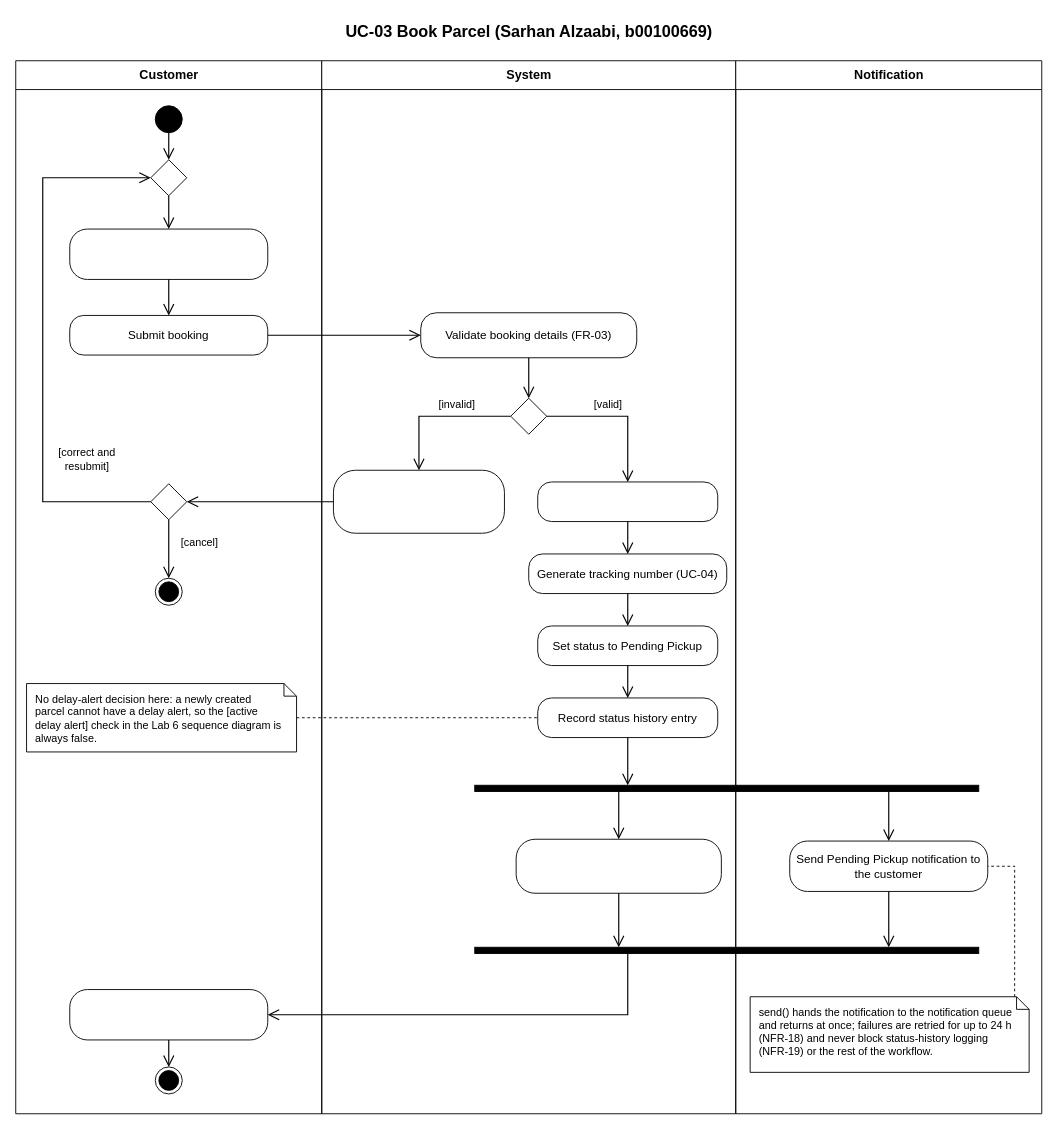
The diagram is 1058 pixels wide and 1130 high, and some of its shapes have lost their labels. Each missing label, with the centre of its shape:
Calculate expected delivery window (24 h if same emirate, 48 h if different): (x=618, y=865)
Create parcel (status Booked): (x=627, y=501)
Enter pickup, recipient and parcel details: (x=168, y=253)
Show errors next to the fields and keep the entered data (NFR-04): (x=418, y=501)
View confirmation with tracking number and delivery window: (x=168, y=1014)
